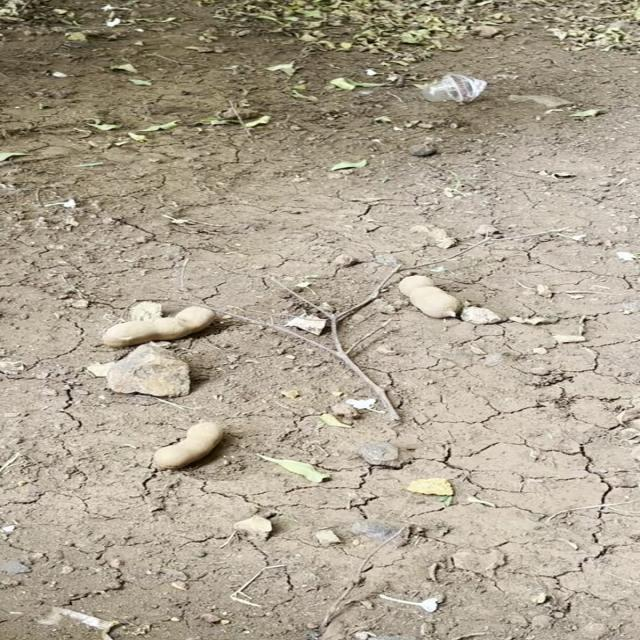tamarind: (95, 304, 216, 348), (142, 419, 224, 470), (396, 277, 463, 316)
